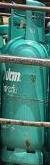cylinder: (1, 0, 50, 165)
